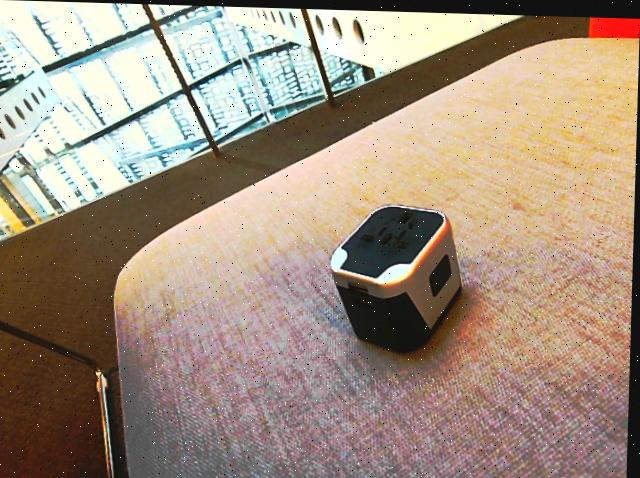adapter: (328, 199, 466, 352)
